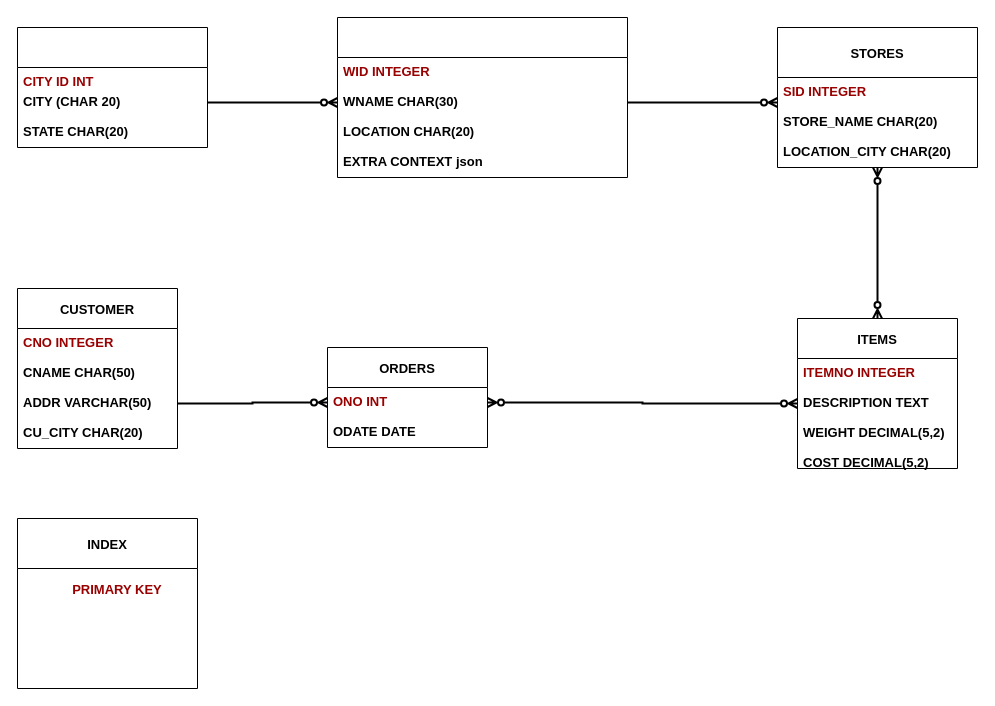
This 995x706 diagram has some shape labels left out. The shapes that lost their labels are listed below. From the top down, each one's box as (x1, y1, x2, y2) in pixels, then its label:
(16, 26, 208, 148): CITIES
(336, 16, 628, 178): WAREHOUSES
